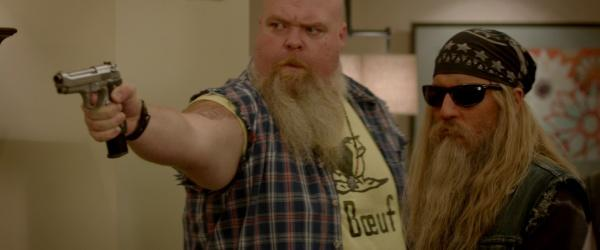Gun: (54, 62, 130, 159)
